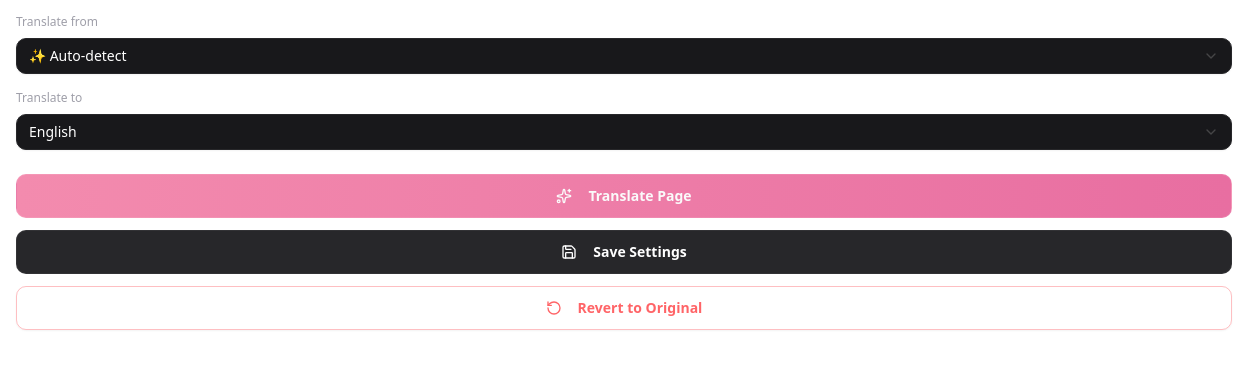
TranslateTab › should show loading state when translating
Click the button "Translate Page": (624, 196) [16,174,1232,218]
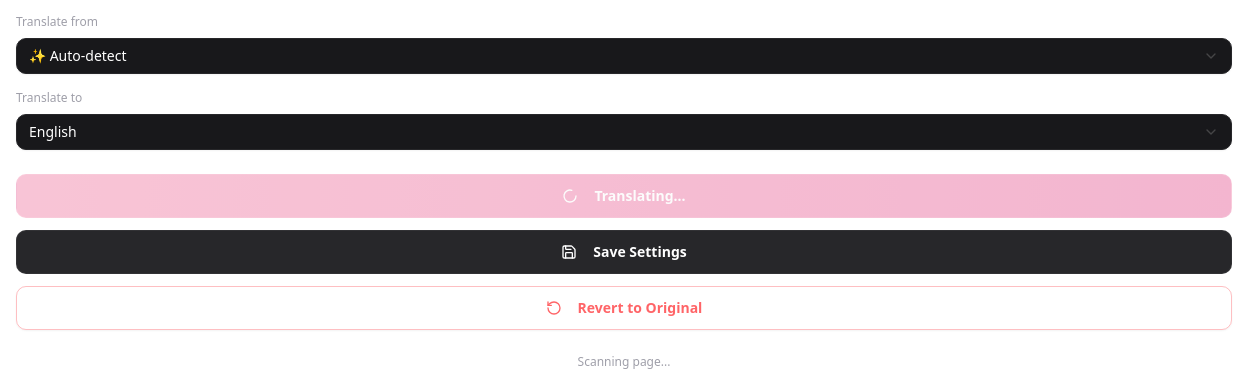
Now the button "Translating..." is shown, box [16,174,1232,218]
